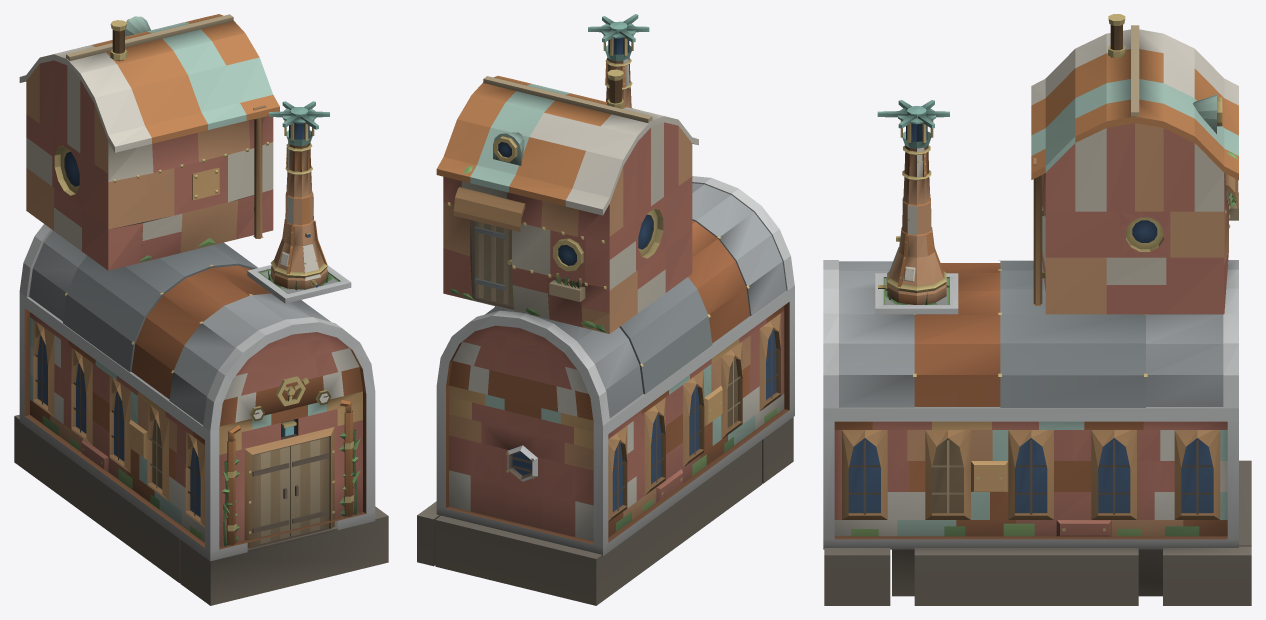
File: hall_cottage.glb
The picture shows the model from 3 angles, left to right: view 1: azimuth 30°, elevation 25°; view 2: azimuth 150°, elevation 25°; view 3: azimuth 270°, elevation 25°; orthographic projection. The views are drawn at different scales.
Parts seen in each view (by area): view 1: hall_cottage; view 2: hall_cottage; view 3: hall_cottage.
Part boxes in pixels (bbox=[...]): hall_cottage: bbox=[14, 14, 388, 605]; hall_cottage: bbox=[417, 14, 794, 605]; hall_cottage: bbox=[823, 14, 1251, 605].
Bounding box in the file's own units: 4.98 × 12.61 × 9.48.
